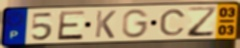5: (30, 11, 55, 41)
C: (159, 9, 188, 37)
E: (56, 10, 87, 42)
G: (122, 8, 151, 39)
K: (93, 10, 118, 40)
Z: (187, 5, 219, 38)
